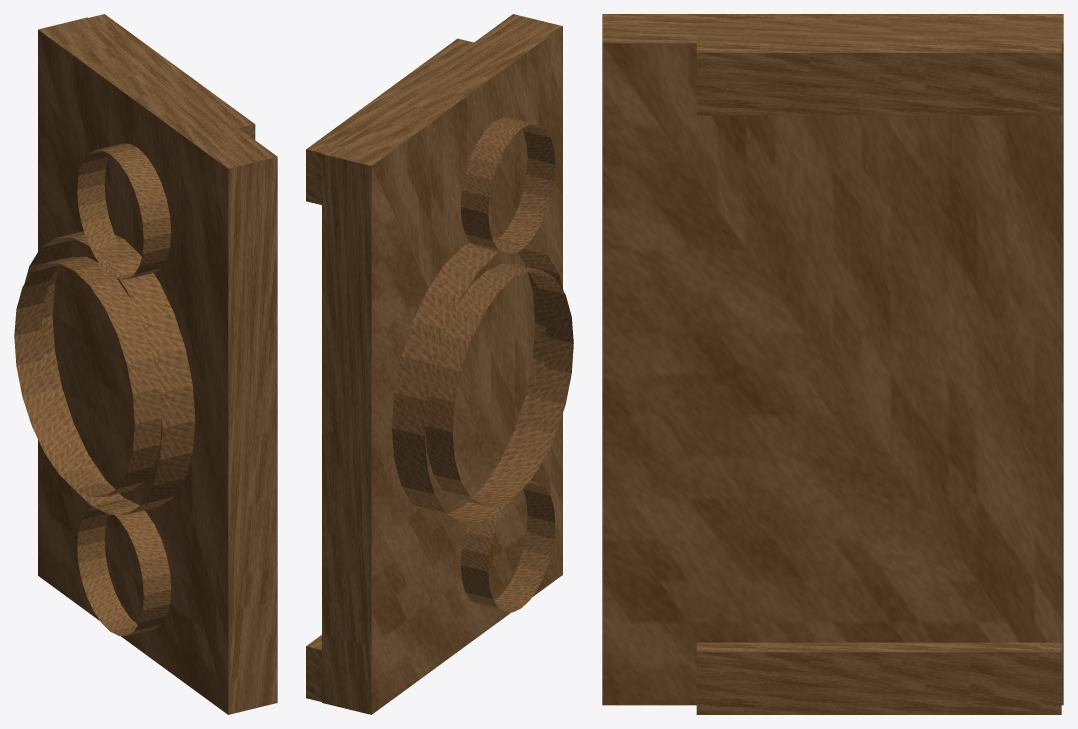
Rendered from SM_ShHobbitFacade.obj.
3 views of the same model, side by side, from view 1: azimuth 30°, elevation 25°; view 2: azimuth 150°, elevation 25°; view 3: azimuth 270°, elevation 25° (orthographic). The views are drawn at different scales.
Visible parts, largest first — view 1: SM_ShHobbitFacade; view 2: SM_ShHobbitFacade; view 3: SM_ShHobbitFacade.
Part boxes in pixels (x1,y1,x2,y2): SM_ShHobbitFacade: (14,14,277,714); SM_ShHobbitFacade: (306,14,573,714); SM_ShHobbitFacade: (602,14,1063,714).
Bounding box in the file's own units: 43 × 190 × 120.
1 material, 1 textured.
